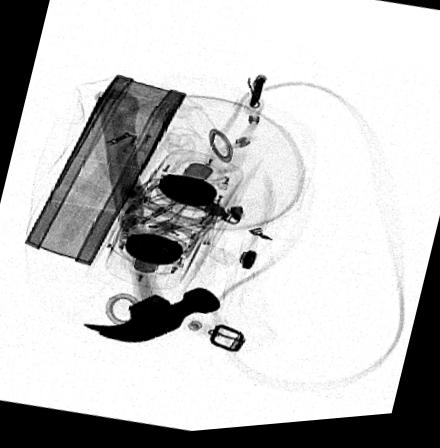Hammer: (80, 89, 220, 344)
